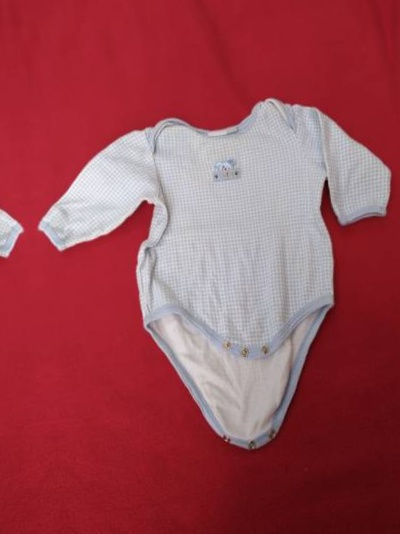Body: (21, 51, 400, 486), (0, 93, 54, 528)
